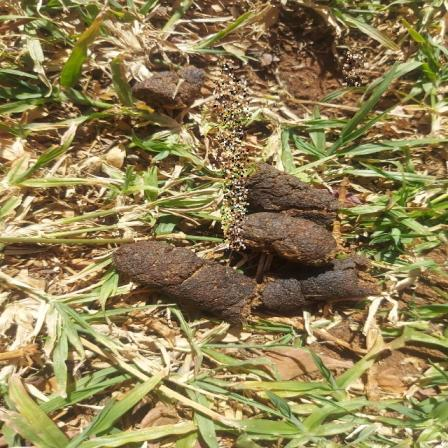dog-poop: (115, 236, 364, 324), (212, 159, 352, 260), (139, 61, 209, 110)
